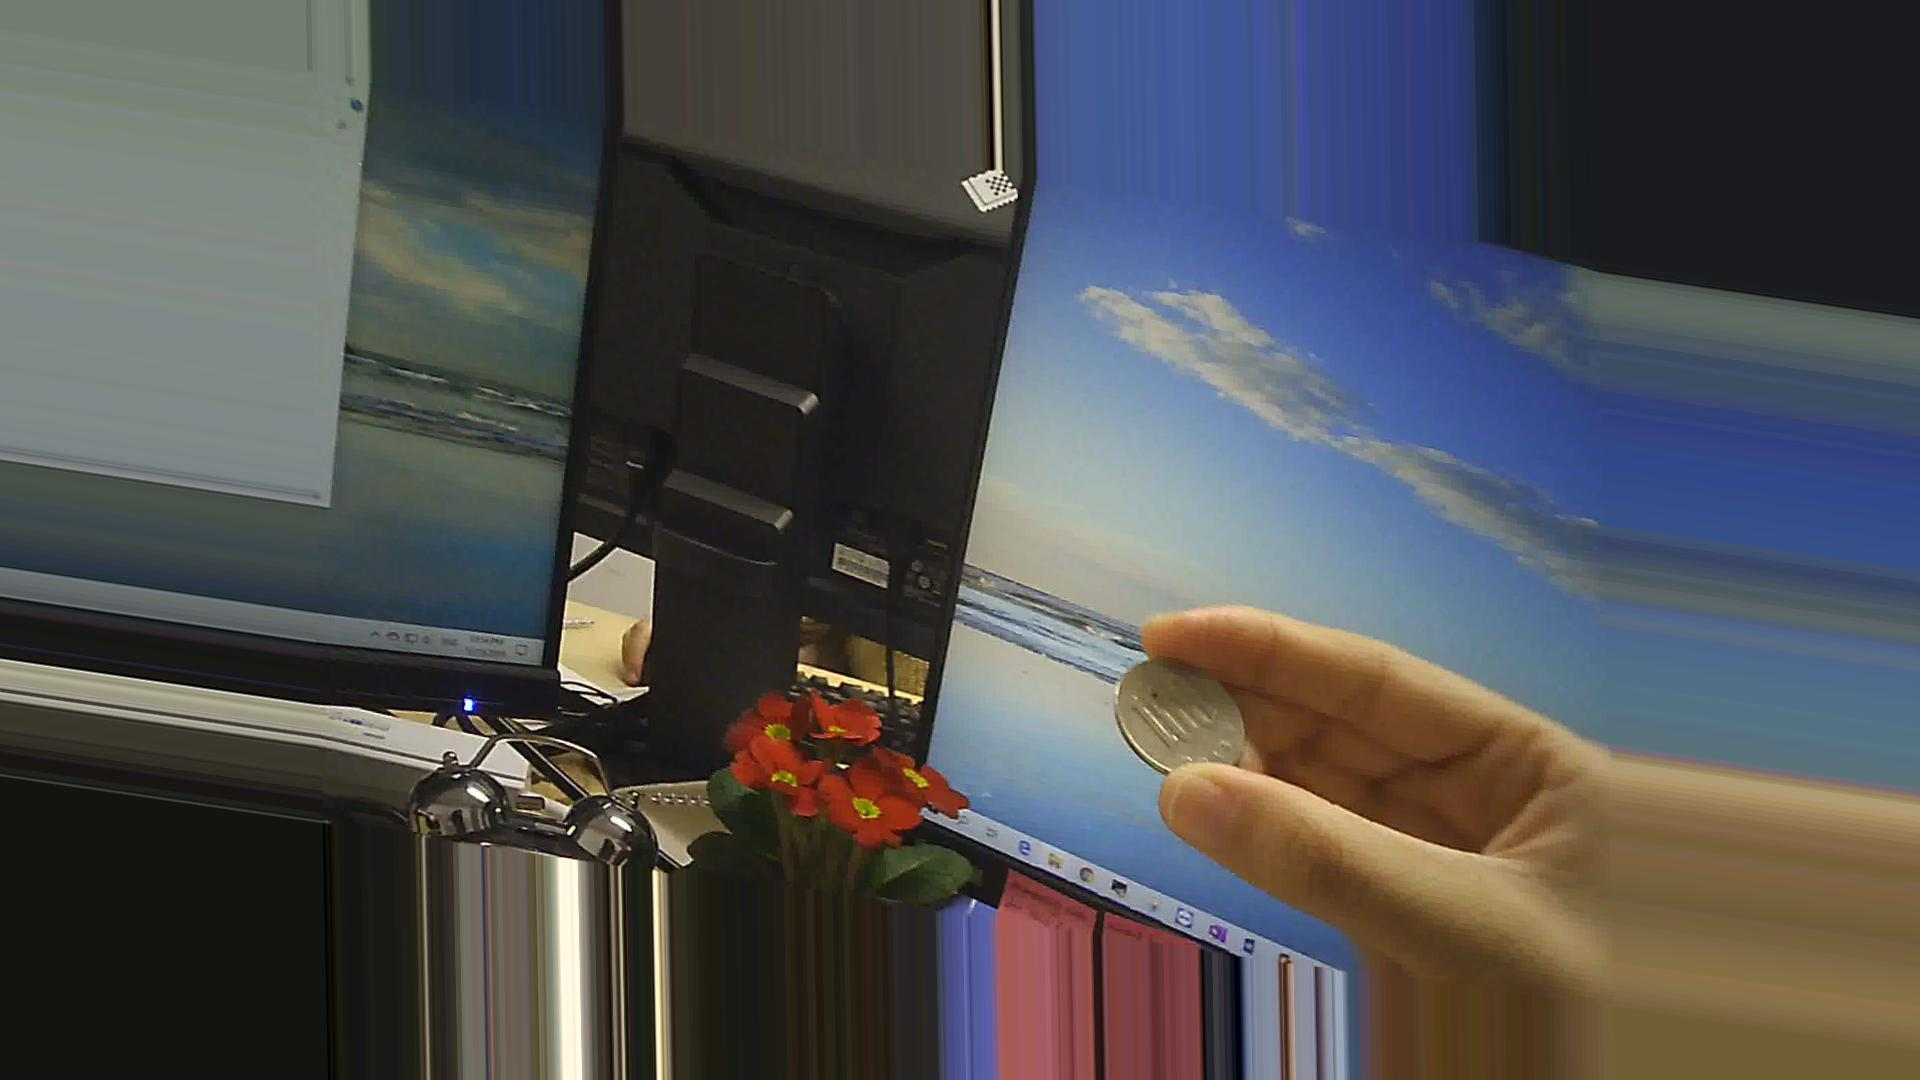100 Yen: (1110, 649, 1266, 785)
